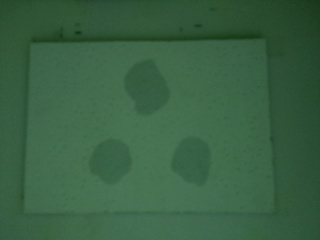Water_detected: (126, 70, 167, 114), (94, 149, 134, 187), (180, 144, 215, 183)
